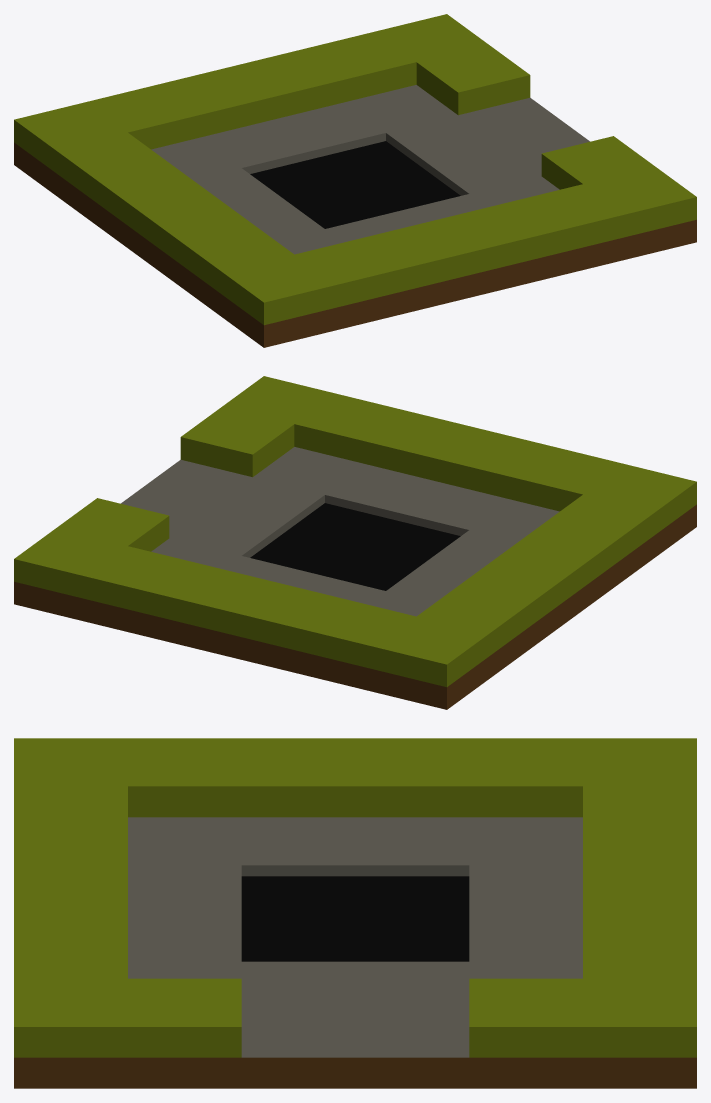
The model's file is CityEnd.fbx.
3 views of the same model, one above another, from view 1: azimuth 30°, elevation 25°; view 2: azimuth 150°, elevation 25°; view 3: azimuth 270°, elevation 25° (orthographic). The views are drawn at different scales.
Visible parts, largest first — view 1: CityEnd; view 2: CityEnd; view 3: CityEnd.
Part boxes in pixels (x1,y1,x2,y2): CityEnd: (14,14,696,347); CityEnd: (14,376,696,709); CityEnd: (14,738,696,1088).
Size of the model in its own units: 1 by 0.1 by 1.
